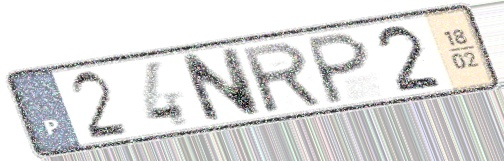2: (374, 23, 445, 95), (69, 68, 132, 142)
4: (137, 59, 196, 130)
N: (175, 44, 265, 126)
P: (306, 29, 372, 107)
R: (237, 38, 327, 116)
